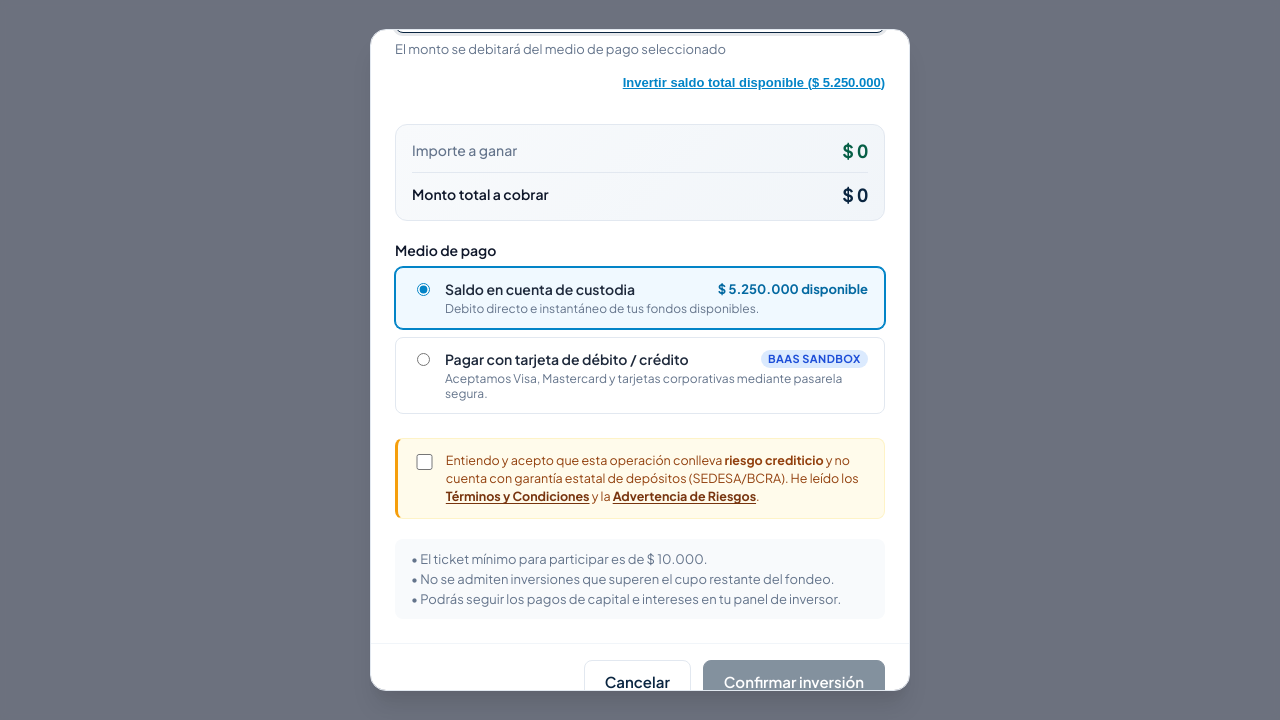
InvestmentModal Checkout & BaaS Sandbox Flow (Issue #66) › Card Form Sandbox & Inline Validations › sandbox quick test button "Tarjeta válida de prueba" autofills valid card and brand badge
(page scrolled)
Click the radio button with test id "payment-method-card" at (424, 360), box [417,353,430,366]
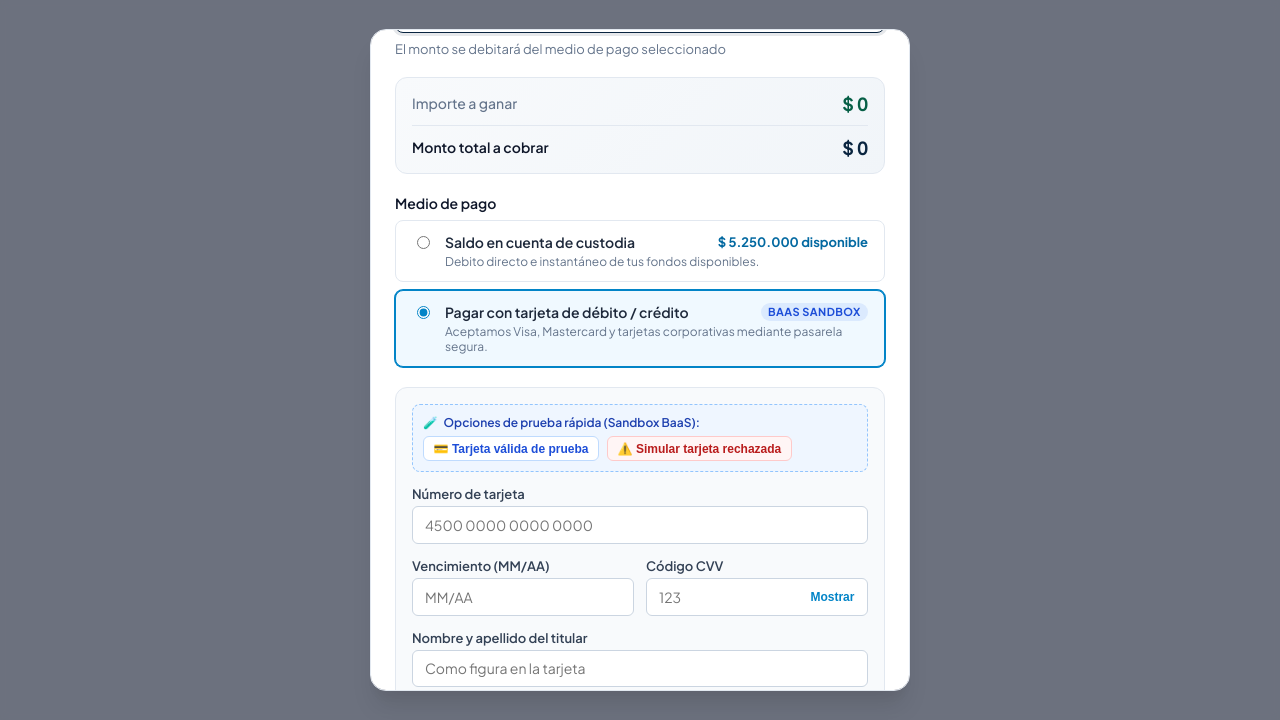
Click the button with test id "sandbox-valid-card-button" at (511, 449), box [423,436,599,461]
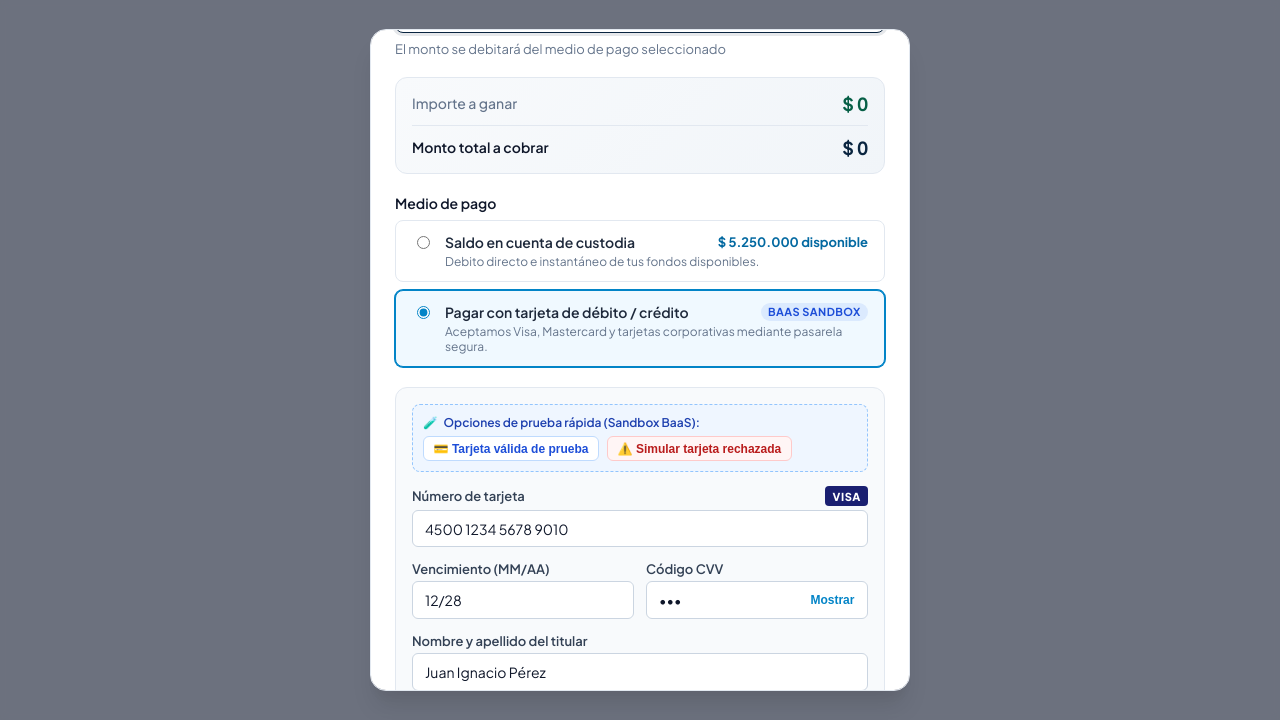
Now the field with test id "card-number-input" holds "4500 1234 5678 9010", box [412,510,868,547]
Now the field with test id "card-expiry-input" holds "12/28", box [412,581,634,619]
Now the password field with test id "card-cvv-input" holds "123", box [646,581,868,619]
